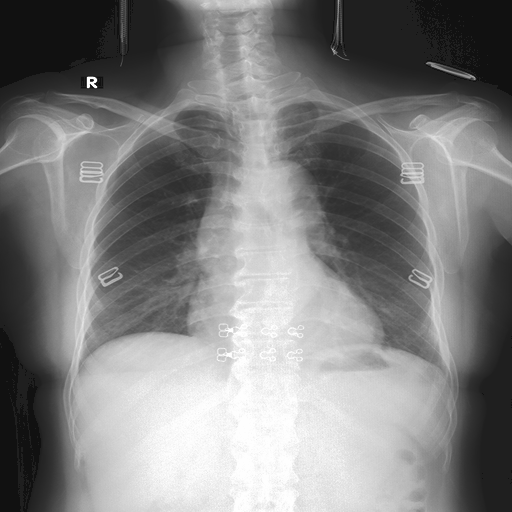Consolidation: (265, 161, 325, 221)
Nodule/Mass: (182, 284, 388, 350)
